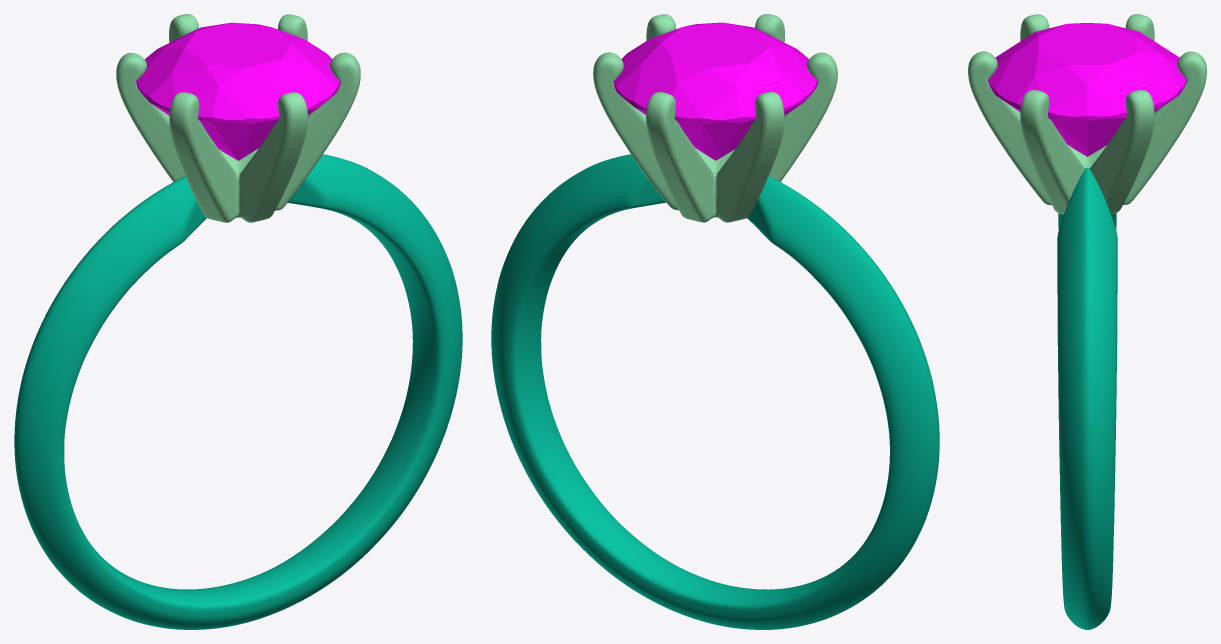
The model's file is BE121H6_RD_200ct_RENDER.glb.
3 views of the same model, side by side, from view 1: azimuth 30°, elevation 25°; view 2: azimuth 150°, elevation 25°; view 3: azimuth 270°, elevation 25° (orthographic). The views are drawn at different scales.
Parts seen in each view (by area): view 1: Metal 01, Metal 02, CS_Diamond_Round; view 2: Metal 01, Metal 02, CS_Diamond_Round; view 3: Metal 01, Metal 02, CS_Diamond_Round.
Part boxes in pixels (x1,y1,x2,y2): Metal 01: (14, 154, 462, 629); Metal 02: (116, 14, 360, 222); CS_Diamond_Round: (136, 22, 340, 160); Metal 01: (491, 154, 939, 629); Metal 02: (593, 14, 837, 222); CS_Diamond_Round: (613, 22, 817, 160); Metal 01: (1057, 167, 1117, 629); Metal 02: (968, 14, 1206, 214); CS_Diamond_Round: (988, 23, 1186, 156).
Bounding box in the file's own units: 20.07 × 24.87 × 9.58.
